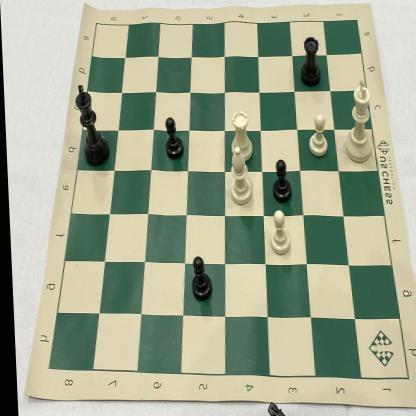black-king: (71, 82, 110, 168)
black-pawn: (184, 252, 212, 306), (268, 157, 293, 207), (163, 111, 184, 164)
black-rook: (295, 34, 325, 90)
white-bishop: (224, 143, 255, 211)
white-king: (337, 73, 376, 168)
white-pawn: (264, 208, 295, 259), (303, 109, 329, 160)
white-rook: (226, 106, 255, 166)
